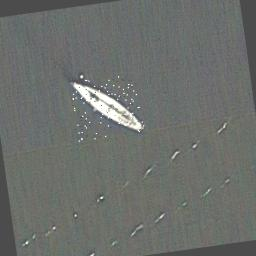boat: (68, 72, 145, 142)
